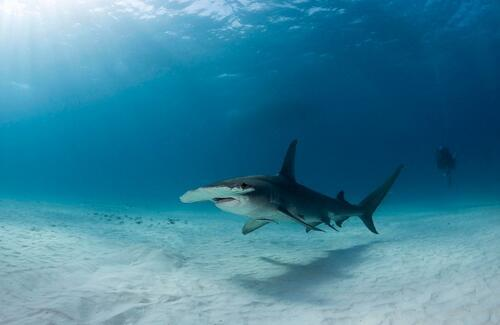shark: (179, 139, 405, 235)
